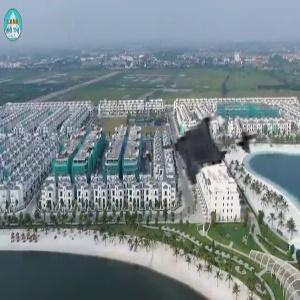drone: (118, 86, 279, 247)
